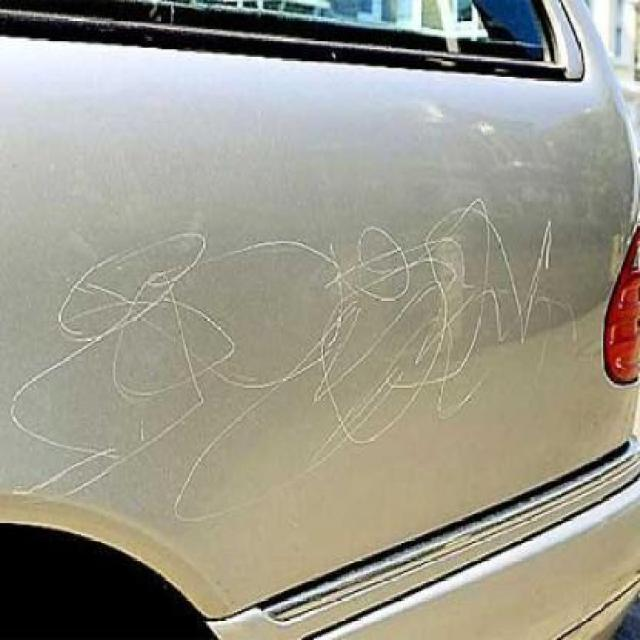scratch: (296, 196, 590, 370), (9, 370, 337, 522), (12, 212, 298, 369), (337, 371, 512, 450)
